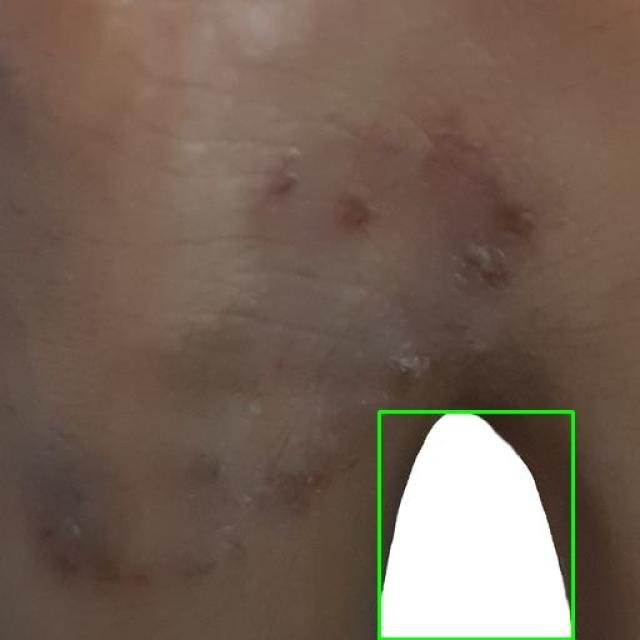Contact Dermatitis: (379, 411, 572, 639)
